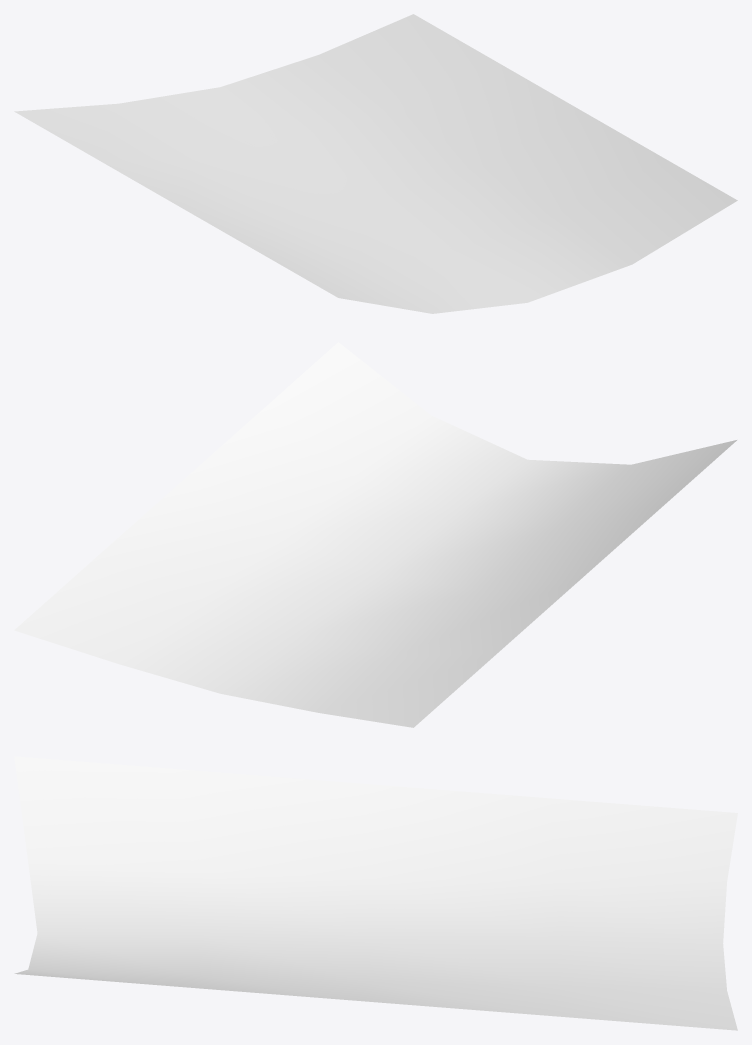
File: SM_Bld_Window_Net_Half_01.glb
3 renders of one model, top to bottom at view 1: azimuth 30°, elevation 25°; view 2: azimuth 150°, elevation 25°; view 3: azimuth 270°, elevation 25°, orthographic. The views are drawn at different scales.
Visible parts, largest first — view 1: SM_Bld_Window_Net_Half_01; view 2: SM_Bld_Window_Net_Half_01; view 3: SM_Bld_Window_Net_Half_01.
Part boxes in pixels (box(x1,y1,x2,y2)): SM_Bld_Window_Net_Half_01: box(14, 14, 737, 313); SM_Bld_Window_Net_Half_01: box(14, 342, 736, 727); SM_Bld_Window_Net_Half_01: box(14, 756, 737, 1030).
Bounding box in the file's own units: 2.49 × 0.4187 × 3.5.
1 material, 1 textured.
